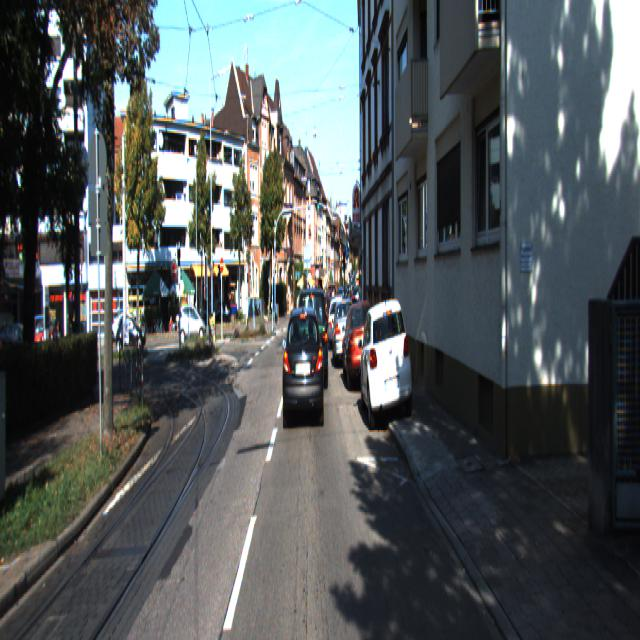Car: (360, 294, 412, 438), (281, 301, 324, 434), (341, 299, 379, 397), (296, 286, 328, 395), (332, 297, 358, 372), (178, 305, 205, 345)
